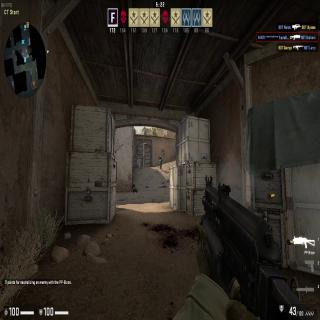T-Body: (159, 156, 162, 168)
T-Head: (160, 156, 162, 159)
